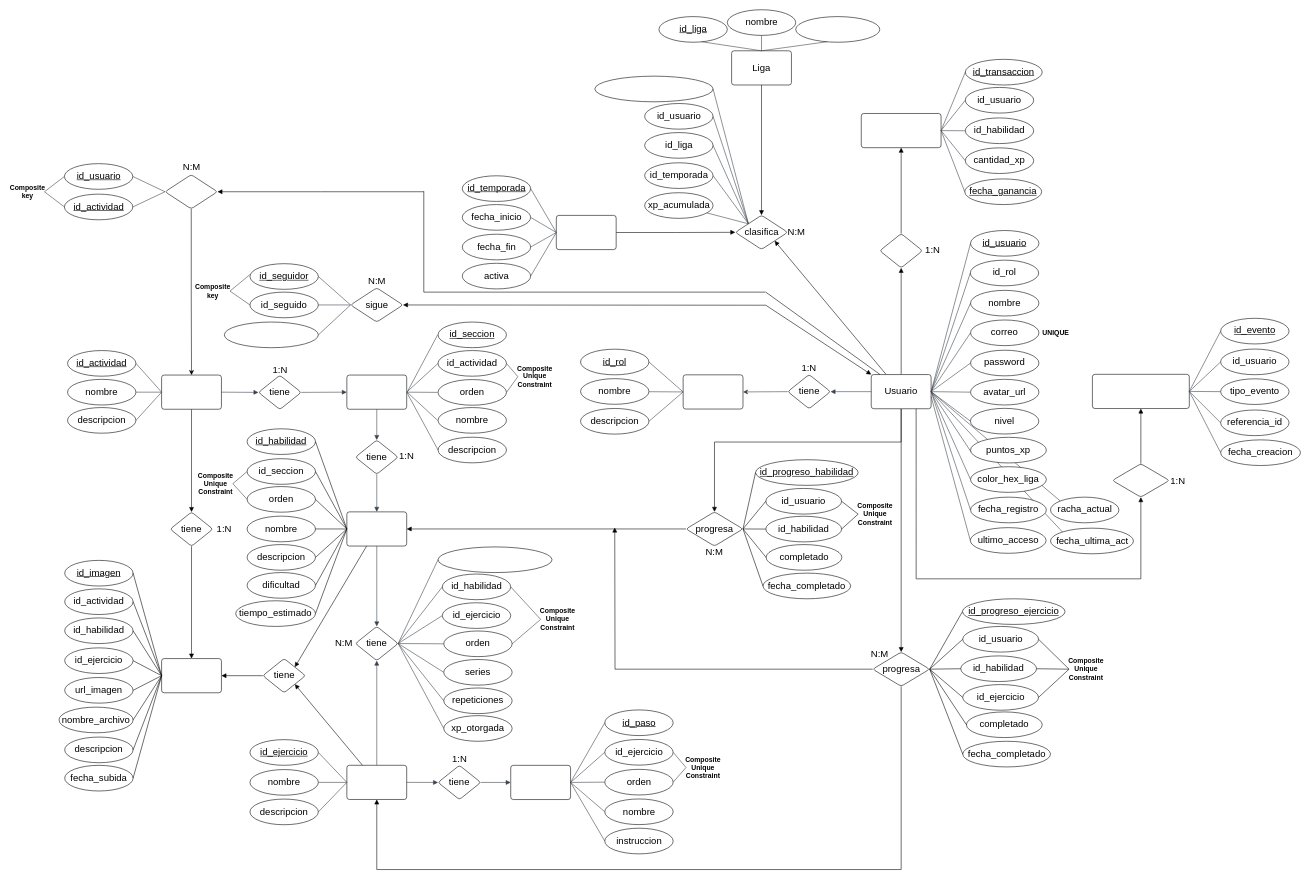
This 1310x885 diagram has some shape labels left out. Each missing label, with the centre of its shape:
"Actividad" goes at point (191, 391).
"Ejercicio" goes at point (376, 782).
"Evento_Comunidad" goes at point (1140, 391).
"favorita" goes at point (190, 191).
"fecha_seguimiento" goes at point (271, 334).
"genera" goes at point (901, 250).
"Habilidad" goes at point (376, 528).
"id_habilidad_ejercicio" goes at point (494, 559).
"id_usuario_clasificacion" goes at point (653, 89).
"Imagen" goes at point (191, 675).
"orden_jerarquia" goes at point (837, 29).
"Paso" goes at point (540, 782).
"registra" goes at point (1140, 480).
"Rol" goes at point (713, 391).
"Seccion" goes at point (376, 391).
"Temporada" goes at point (586, 232).
"Transaccion_xp" goes at point (901, 130).
